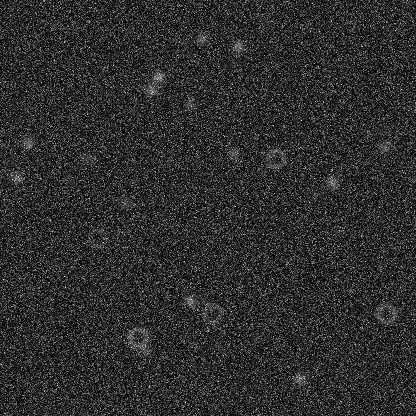Ring: (85, 225, 109, 249), (125, 325, 149, 349), (263, 146, 287, 170), (374, 301, 398, 325), (200, 301, 224, 325)
Spot: (324, 174, 340, 190), (182, 96, 198, 112), (150, 68, 166, 84), (181, 292, 197, 308), (193, 31, 209, 47), (376, 139, 392, 155), (8, 169, 24, 185), (137, 341, 153, 357), (142, 81, 158, 97), (19, 135, 35, 151), (350, 367, 366, 383), (291, 370, 307, 386), (117, 195, 133, 211), (78, 150, 94, 166), (256, 12, 272, 28), (230, 38, 246, 54), (224, 145, 240, 161)
